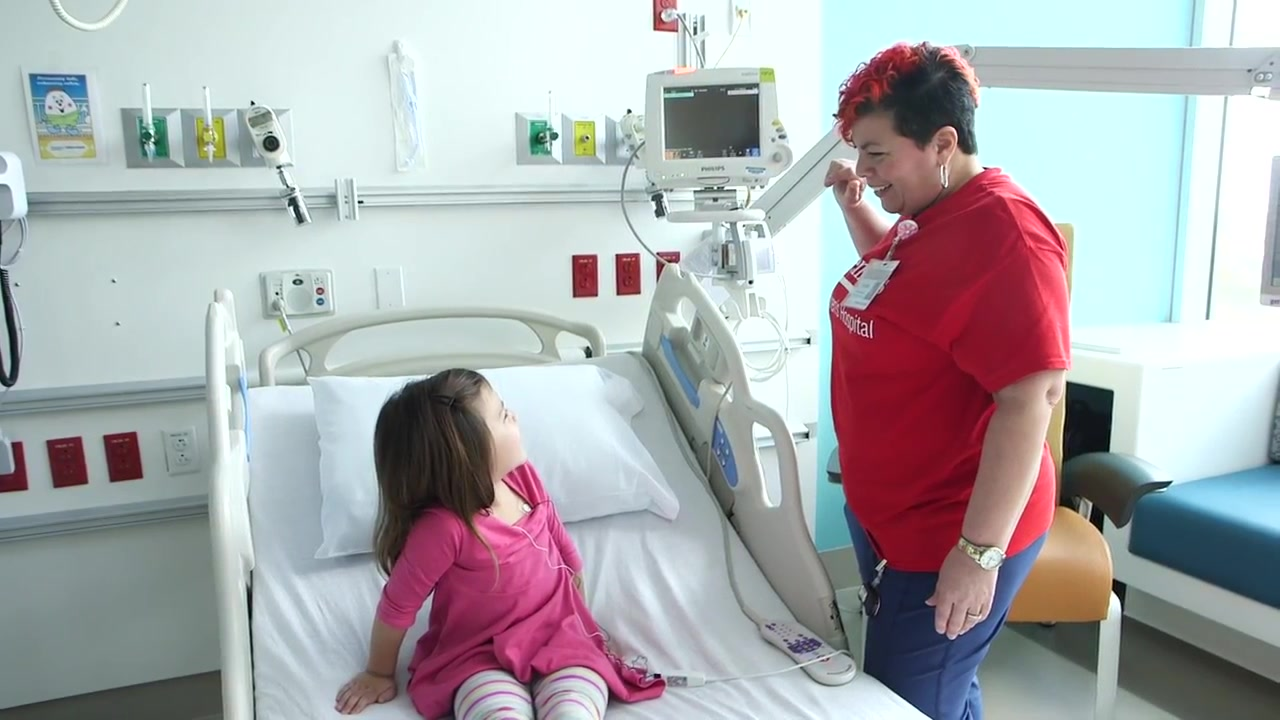bedrail: (636, 262, 852, 661), (204, 281, 255, 720)
bedside_monitor: (648, 68, 791, 187)
chair: (827, 225, 1172, 720)
hospital_bed: (191, 258, 938, 720)
patient: (335, 367, 668, 720)
sofa: (1127, 373, 1277, 674)
staff: (825, 40, 1073, 720)
